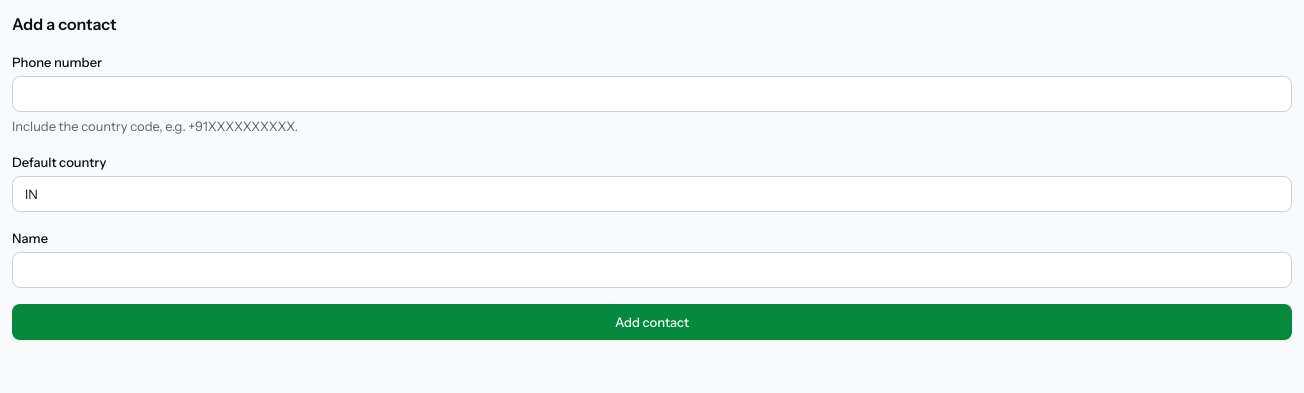
ContactForm › a server VALIDATION_ERROR maps to a visible message, never a blank form
The width and height of the screenshot is (1304, 393).
Type "+919000000000" into the field with test id "contact-form-phone" at (652, 94), box [12,76,1292,112]
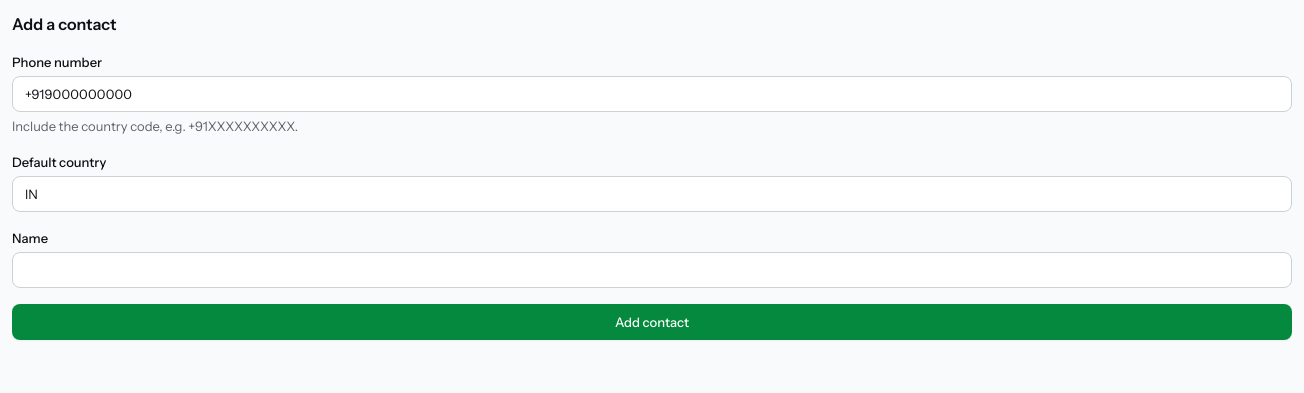
Click the button with test id "contact-form-submit" at (652, 322), box [12,304,1292,340]
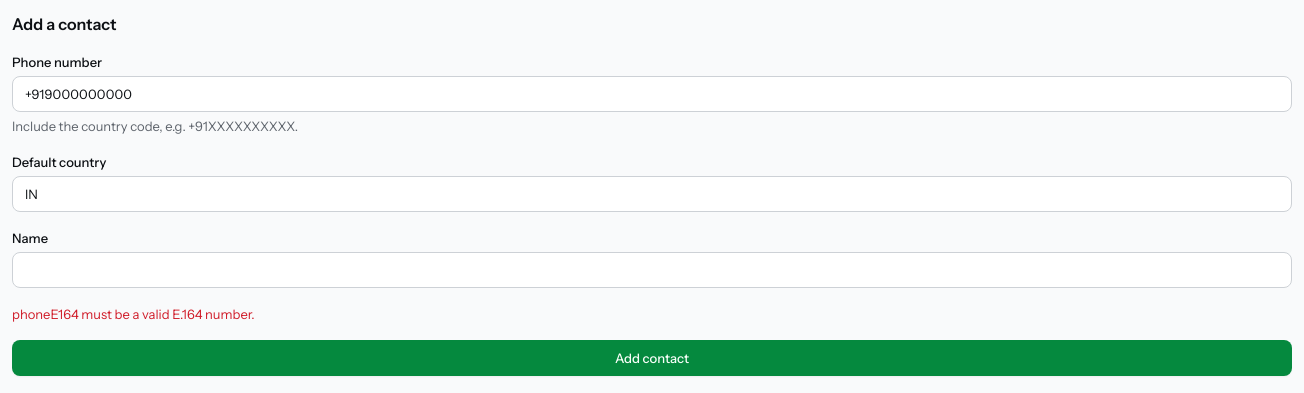
Expected: the message with test id "contact-form-error" reads "phoneE164 must be a valid E.164 number.", [12,306,255,322]
